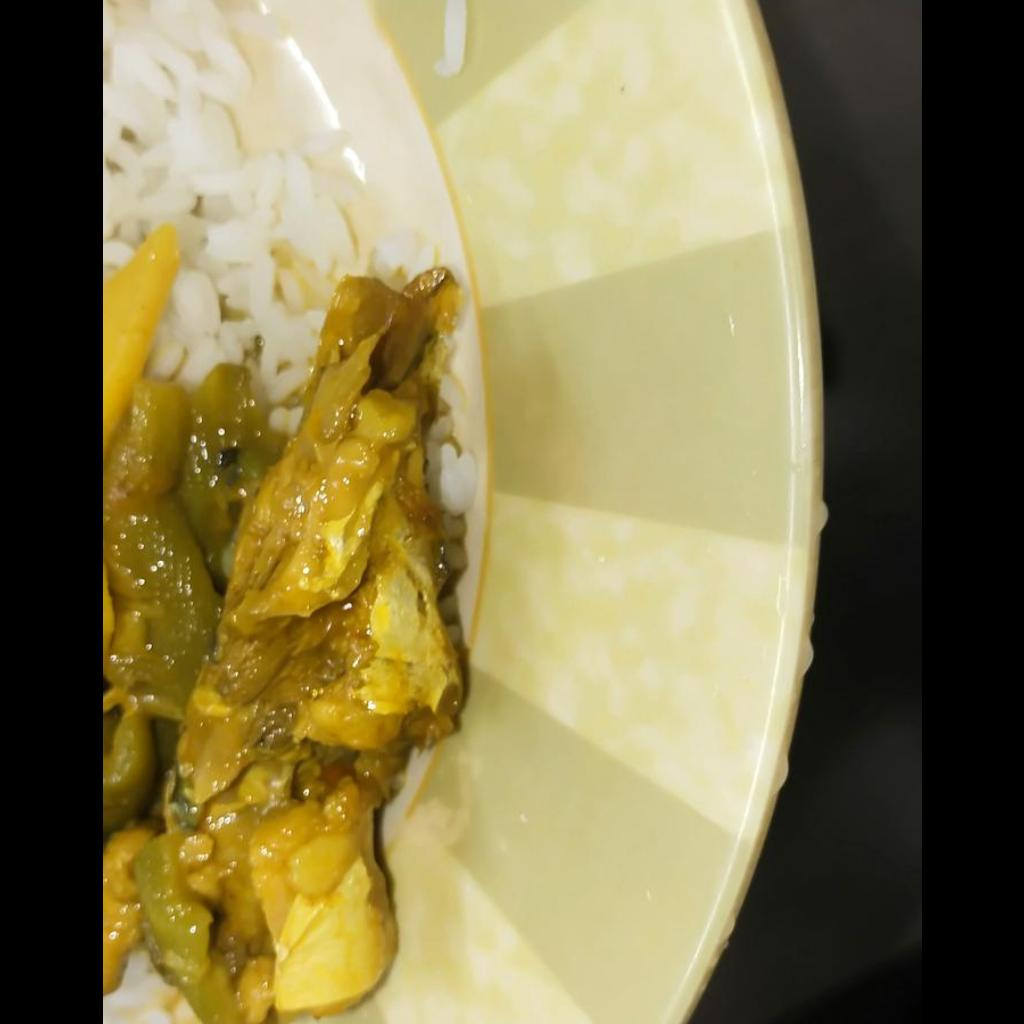fish: (102, 233, 462, 1023)
rice: (102, 0, 466, 438)
